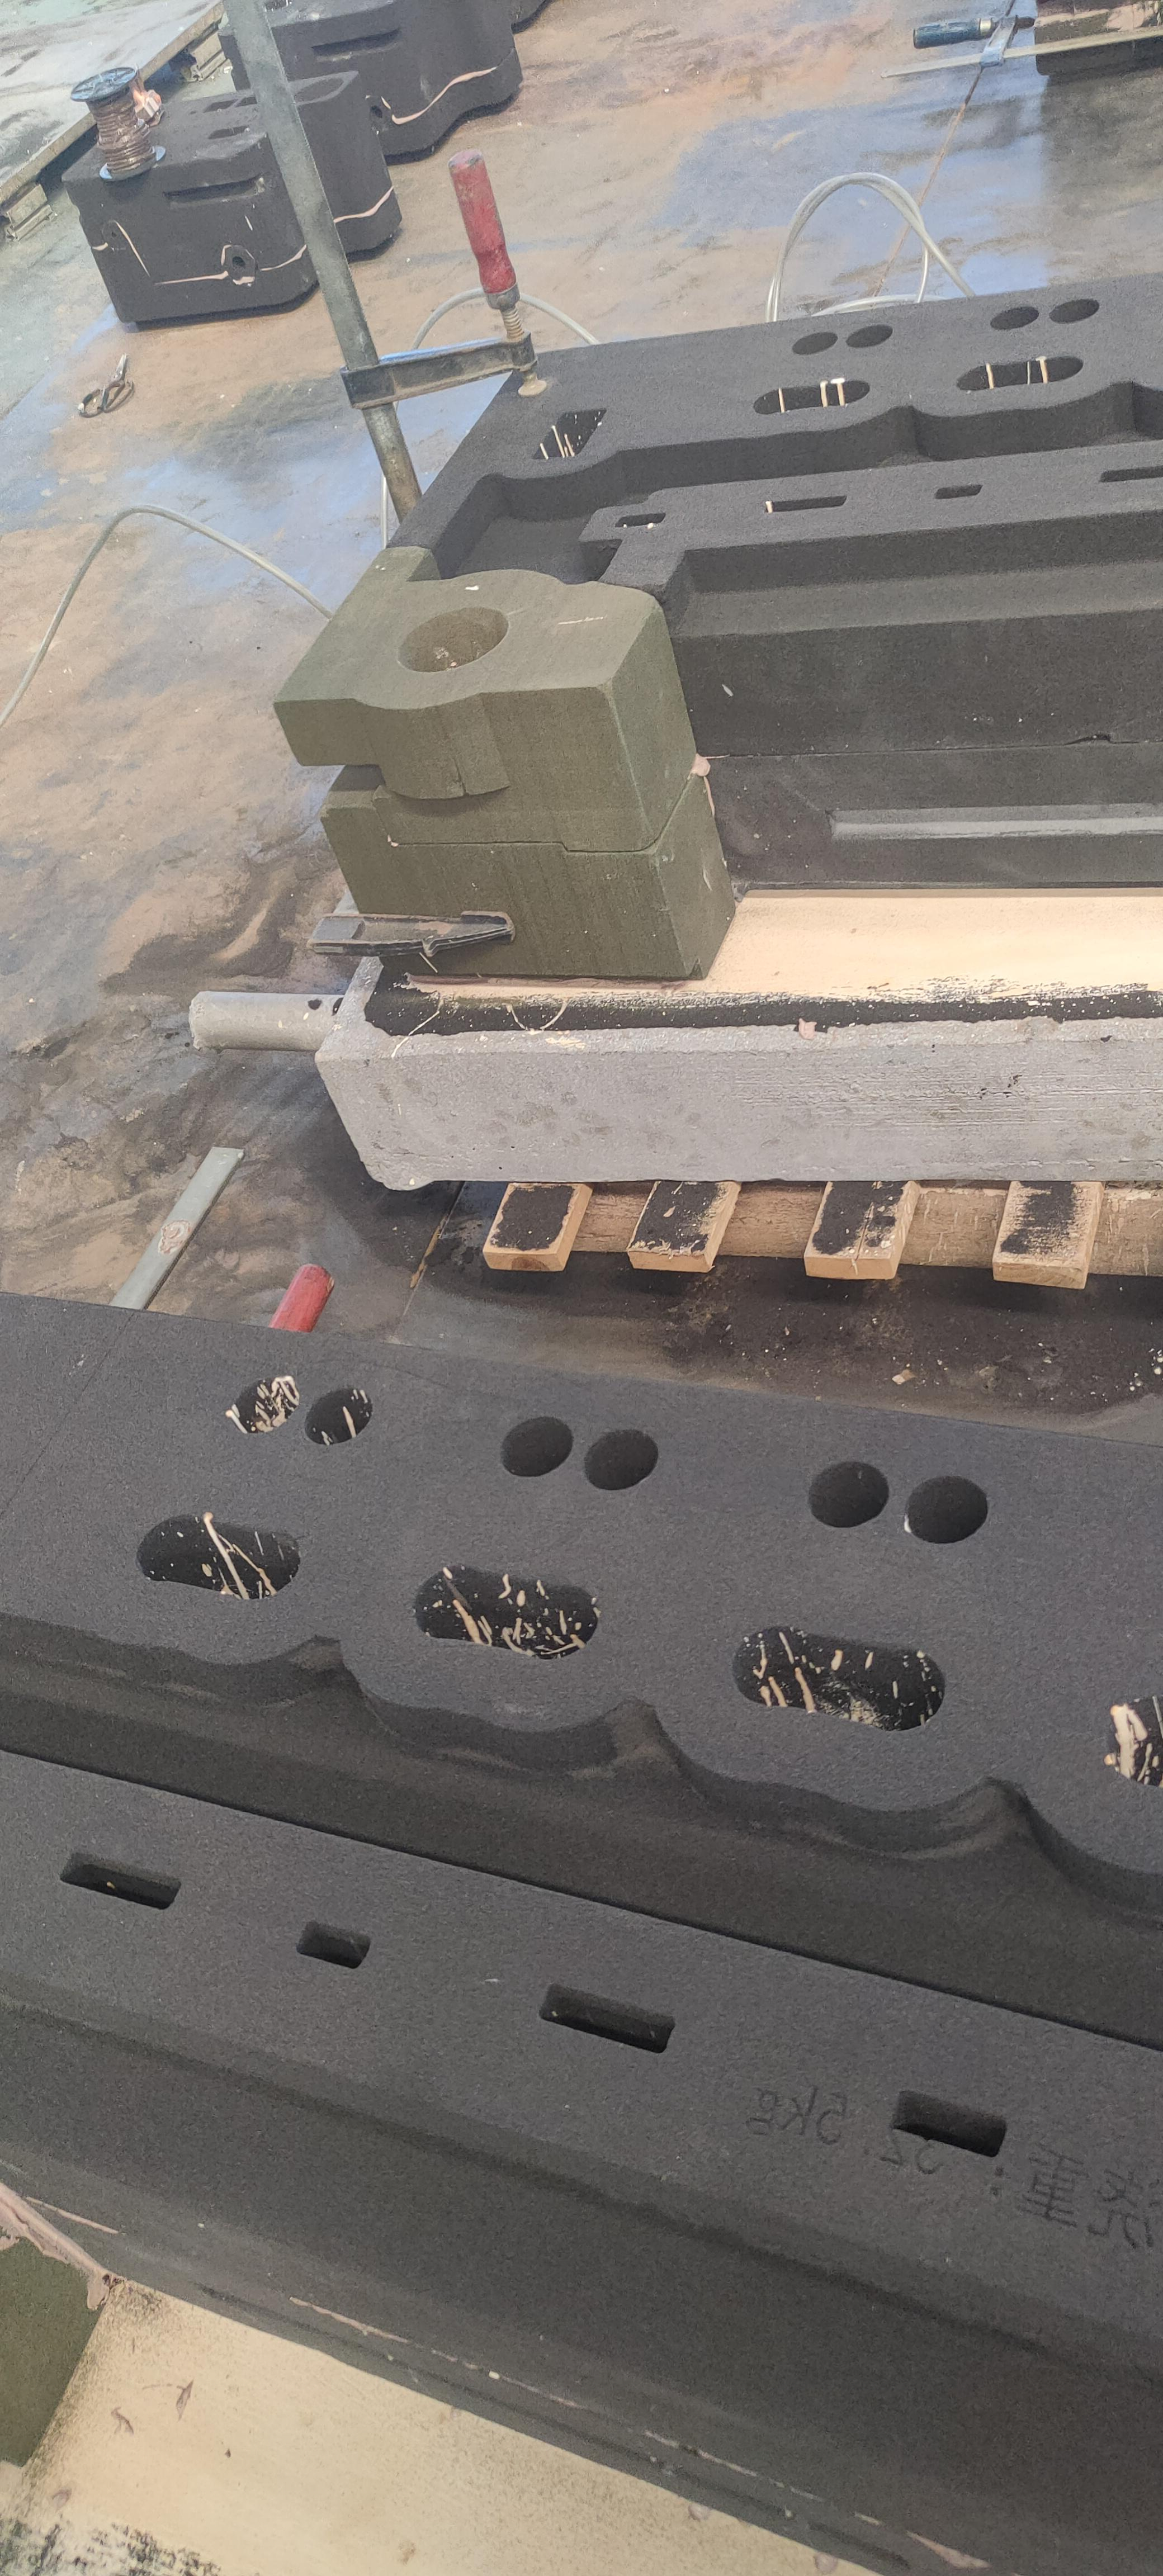pouring hole: (398, 606, 509, 672), (291, 77, 347, 102)
